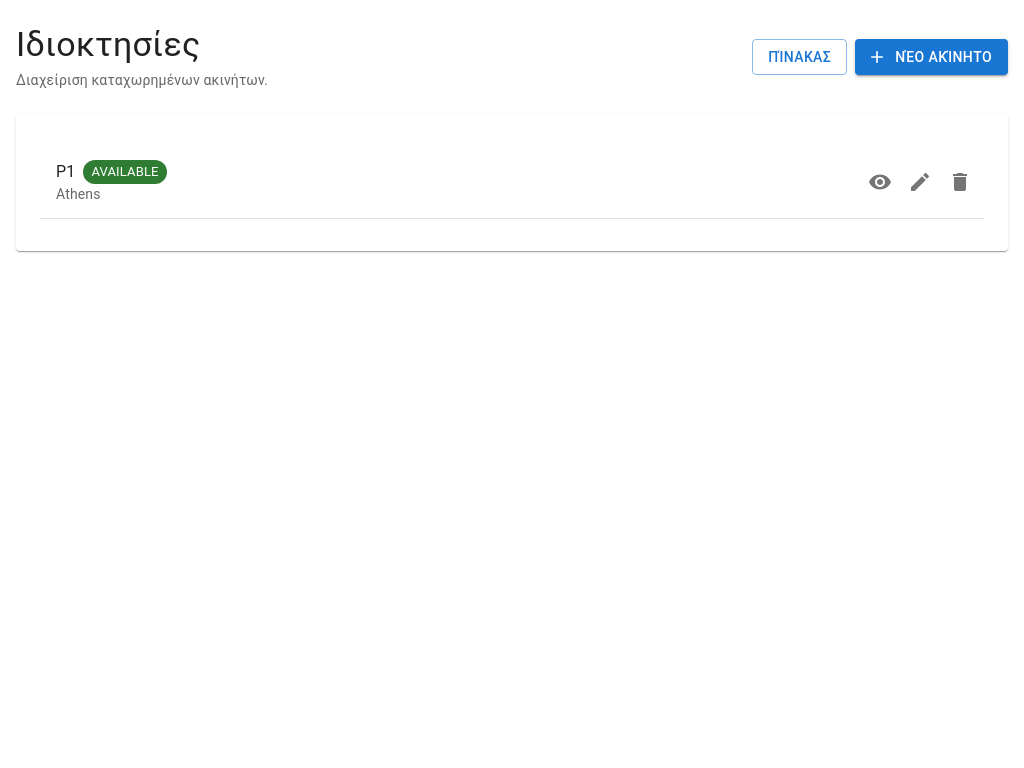
Test case: delete property success removes it from list
The image size is (1024, 768).
Expected: the text "P1" is shown, [56,160,75,184]
Click the button named "Διαγραφή ακινήτου": (960, 182) [940,162,980,202]
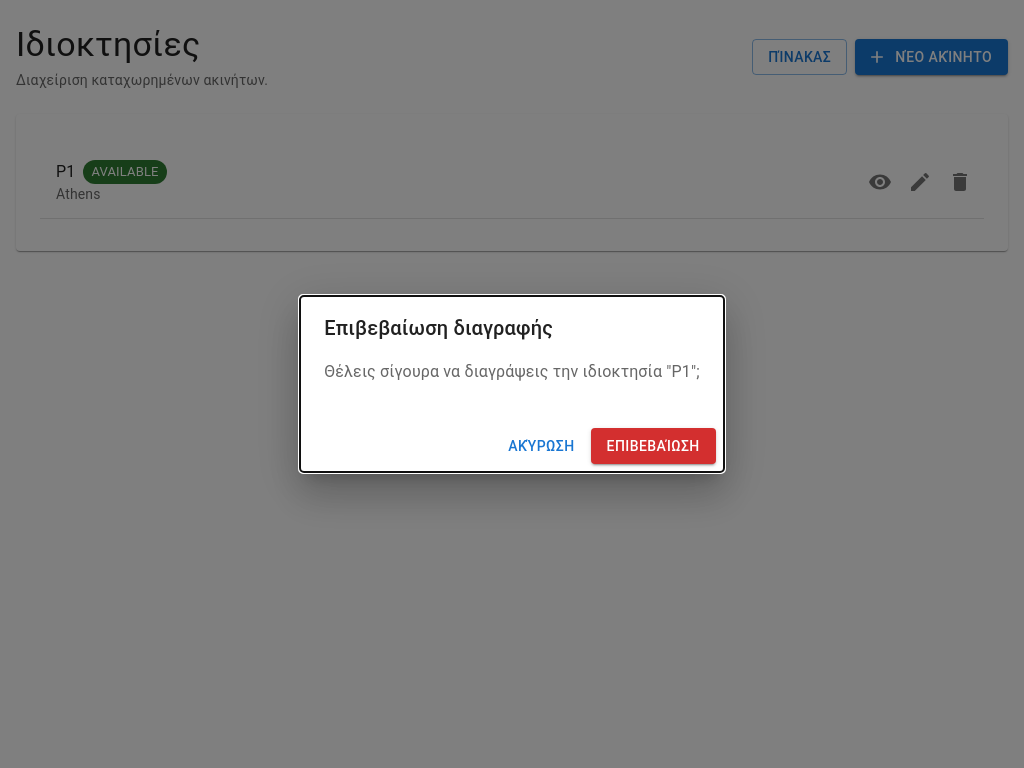
Expected: the heading "Επιβεβαίωση διαγραφής" is shown, [324,316,553,340]
Click the button "Επιβεβαίωση": (653, 446) [591,428,716,464]
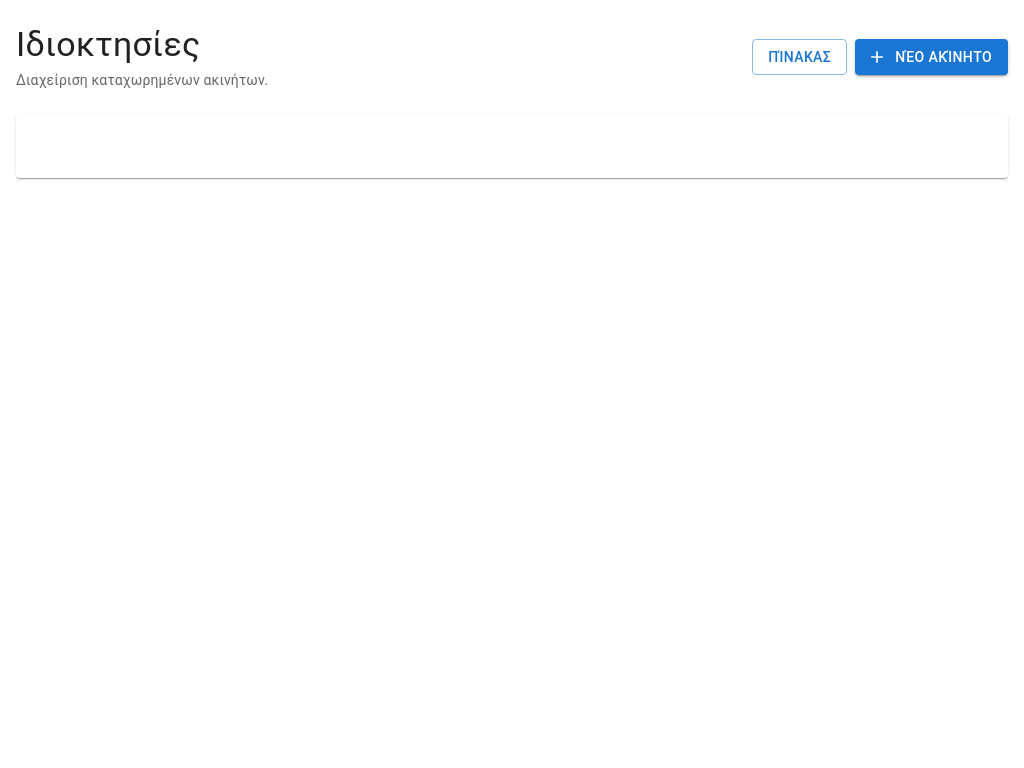
Expected: the text "P1" is gone
